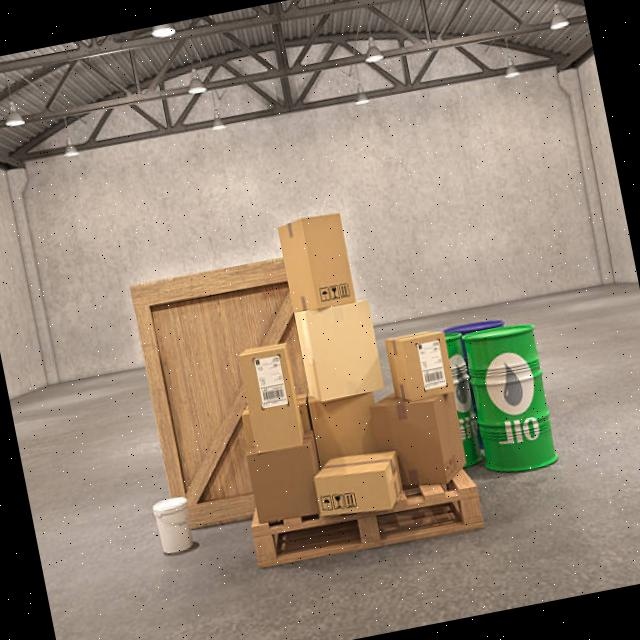Wooden-Pallets: (244, 483, 492, 573)
